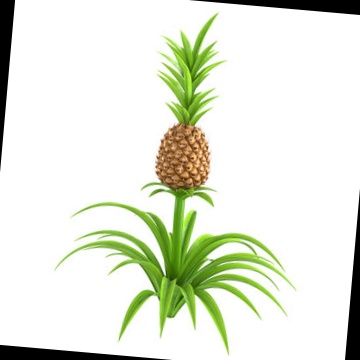Pineapple: (154, 14, 220, 192)
